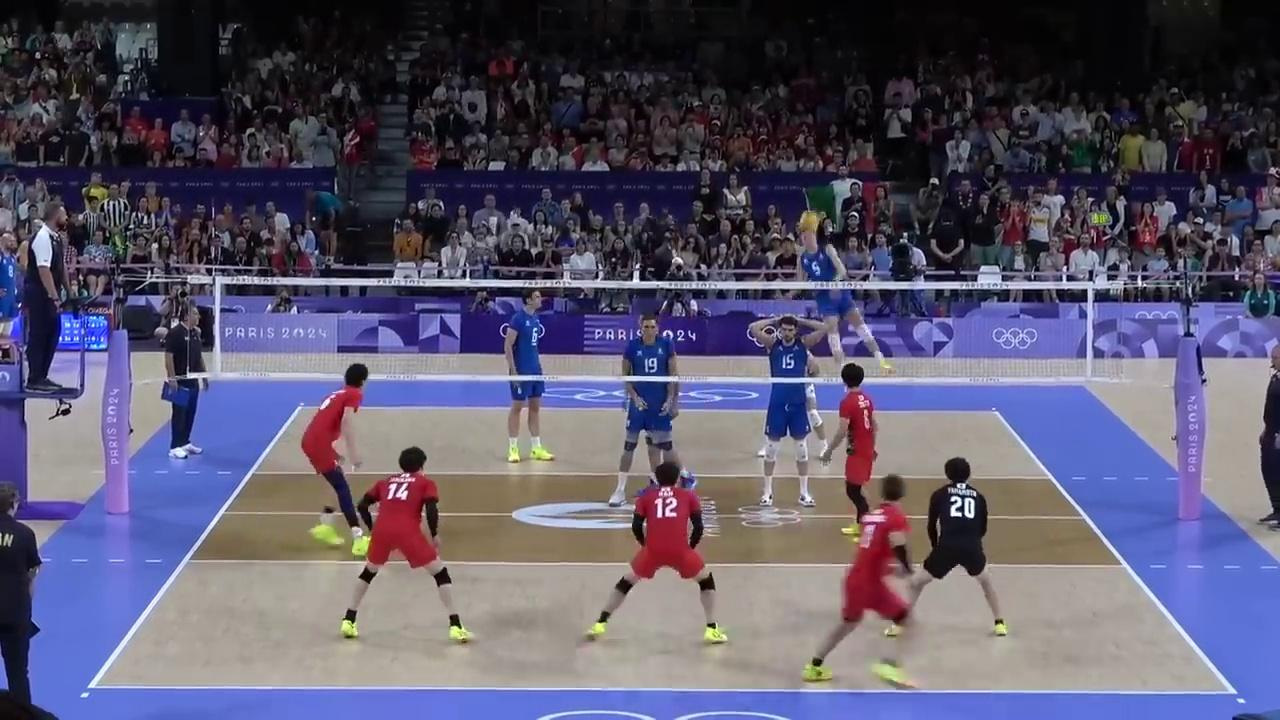ball: (802, 209, 820, 232)
